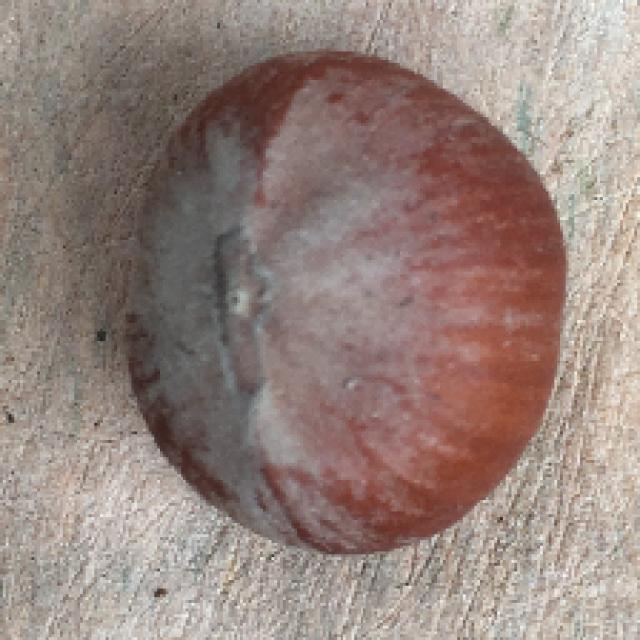qualityHazelnut: (127, 49, 573, 555)
